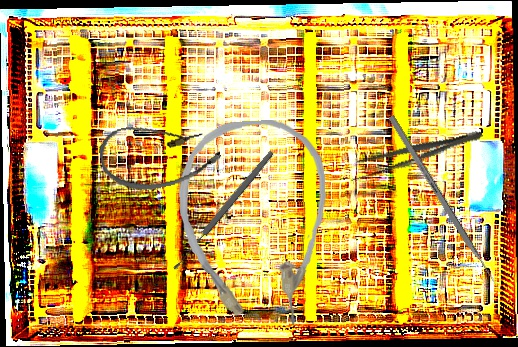Cannula: (175, 117, 333, 331), (95, 109, 225, 199)
Dressing Forceps: (345, 123, 486, 185)
Pusher: (387, 114, 504, 295)
Surgical Spoon: (170, 148, 276, 273)
